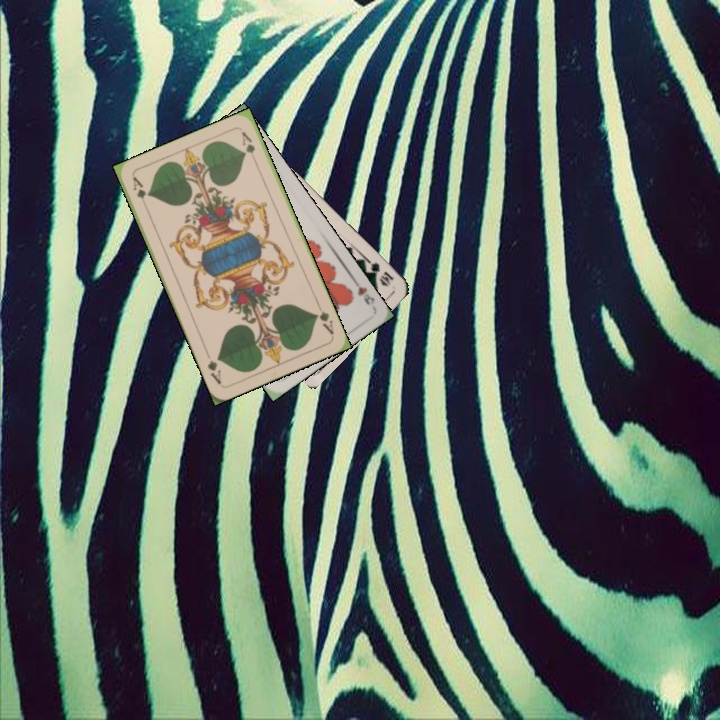G10: (364, 256, 396, 289)
GA: (311, 299, 337, 337), (129, 173, 150, 212)
H9: (349, 275, 377, 307)
